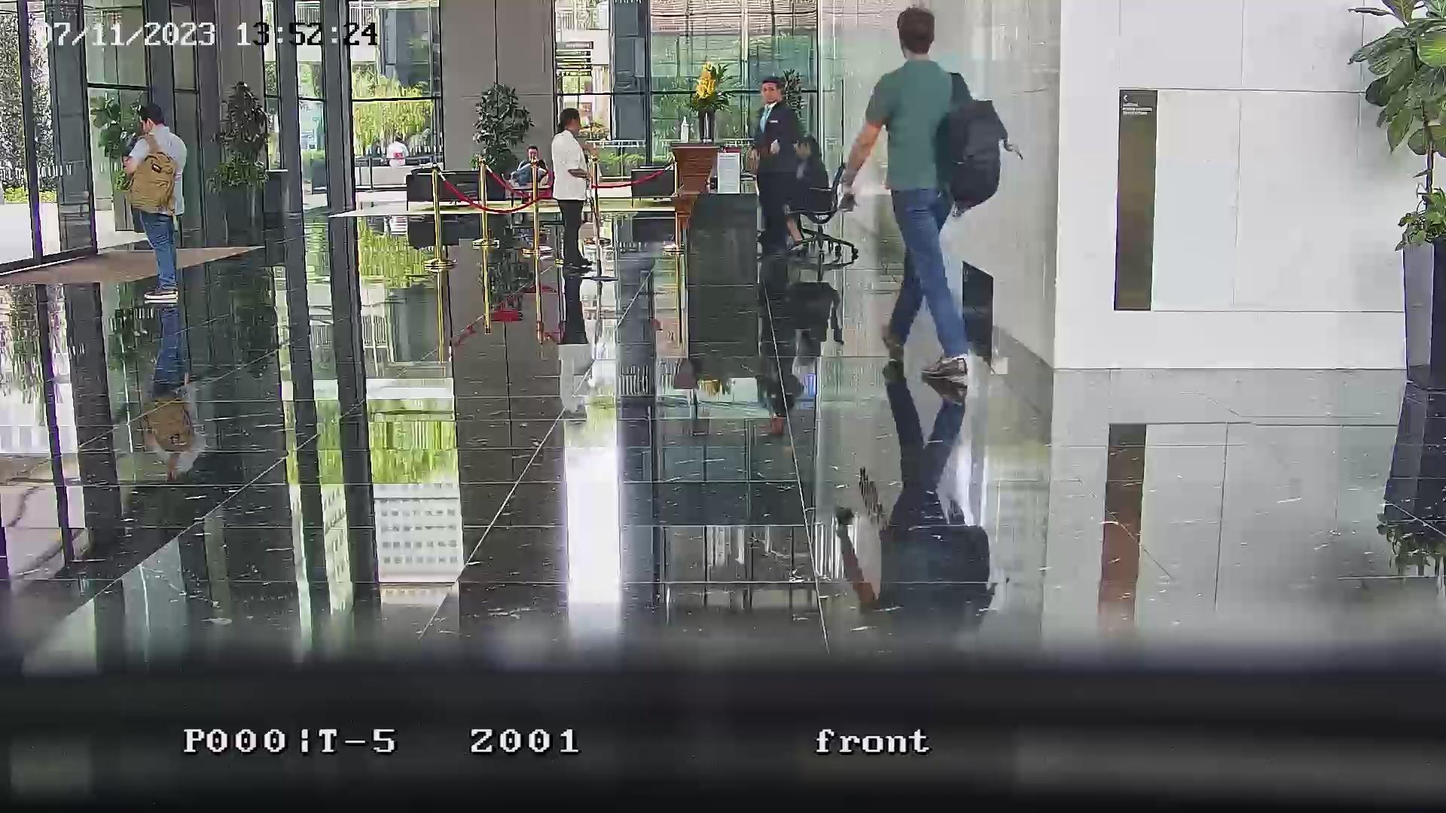person: (838, 8, 973, 381), (120, 103, 187, 298), (749, 75, 807, 256), (551, 108, 595, 272), (785, 136, 829, 253), (501, 145, 549, 186), (387, 136, 411, 166)
